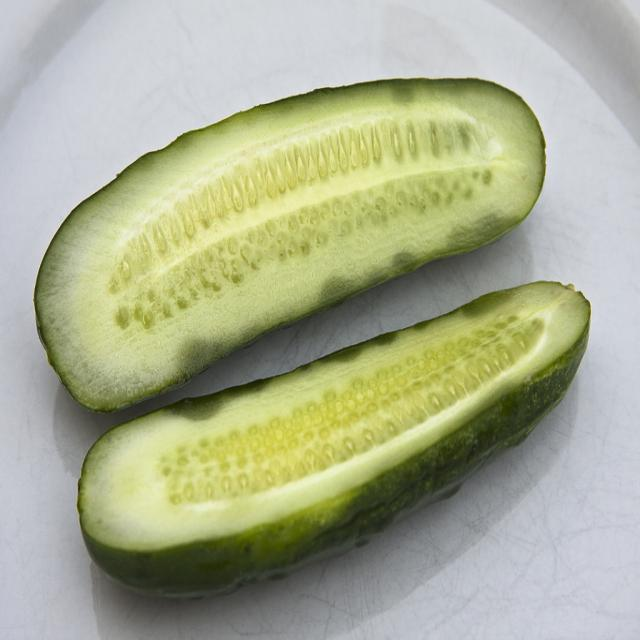Cucumber: (33, 75, 547, 411), (139, 276, 598, 566)
